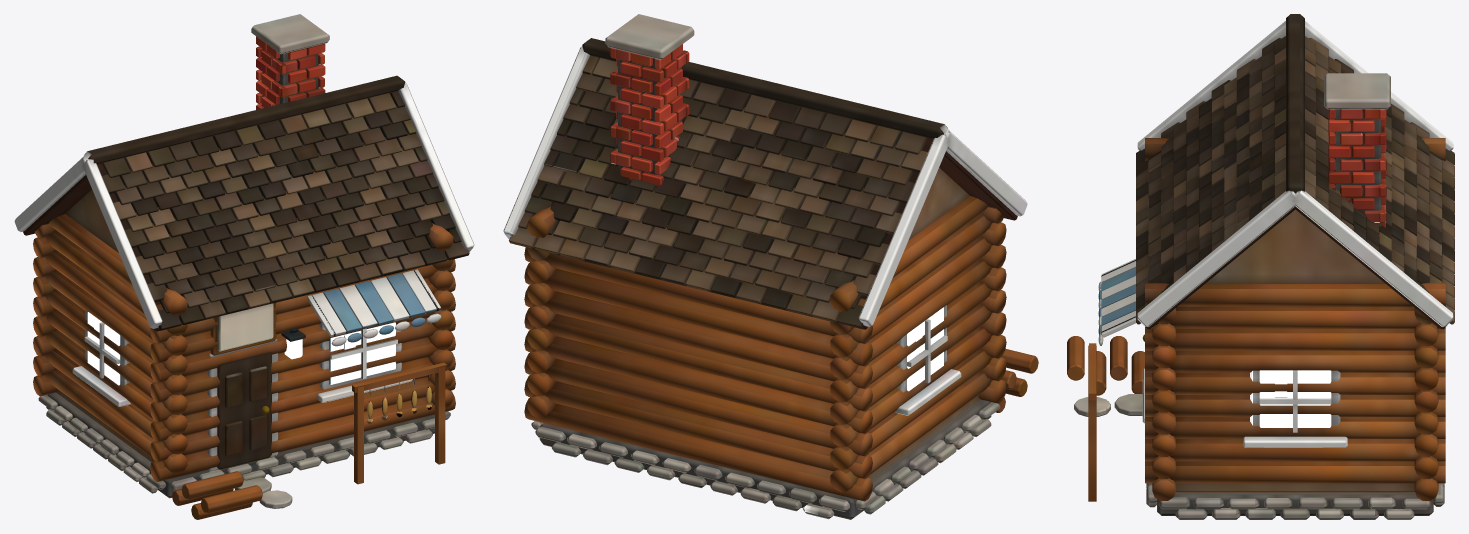
Rendered from smokehouse.glb.
3 views of the same model, side by side, from view 1: azimuth 30°, elevation 25°; view 2: azimuth 150°, elevation 25°; view 3: azimuth 270°, elevation 25° (orthographic). The views are drawn at different scales.
Parts seen in each view (by area): view 1: smokehouse; view 2: smokehouse; view 3: smokehouse.
Part boxes in pixels (x1,y1,x2,y2): smokehouse: (14,14,474,519); smokehouse: (503,14,1038,519); smokehouse: (1067,14,1454,519).
Size of the model in its own units: 1.74 by 1.84 by 1.63.
1 material, 1 textured.
